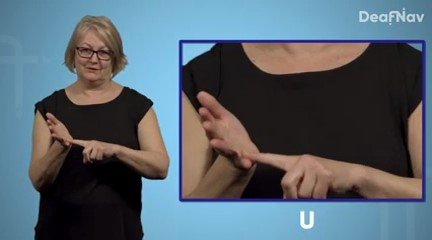U: (39, 105, 136, 169)
